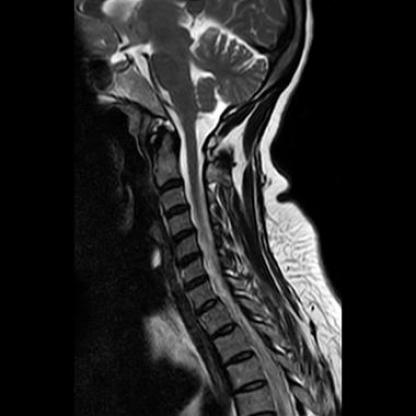Disc Bulgerotation: (154, 177, 185, 194), (175, 251, 205, 268), (161, 202, 190, 219), (182, 274, 209, 292), (169, 229, 197, 245)
Disc Herniationrotation: (196, 299, 221, 316)
